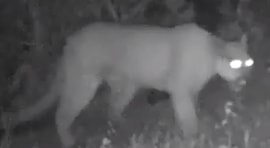Mountain Lion: (16, 9, 261, 141)
